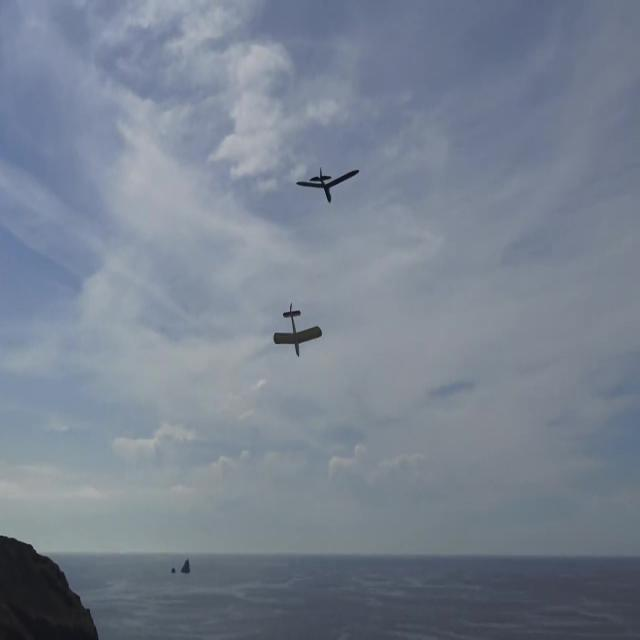iha: (273, 295, 323, 351), (289, 166, 352, 204)
